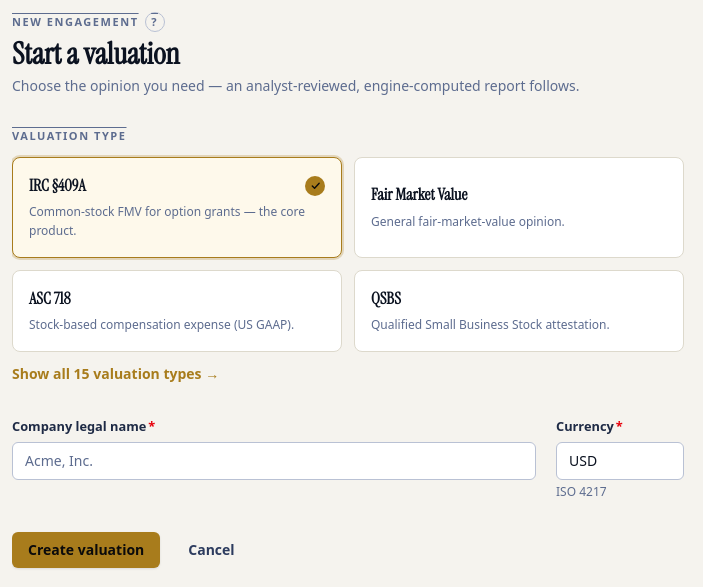
NewValuationPage › names an emptied currency box as required rather than malformed
Type "Acme" into the field labelled "Company legal name" at coordinates (274, 461), box [12,442,536,480]
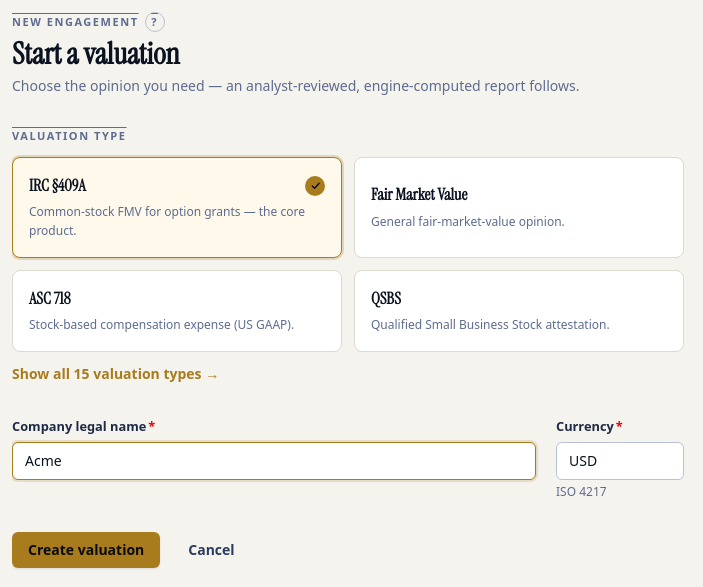
Clear the field labelled "Currency * ISO 4217" at coordinates (620, 461), box [556,442,684,480]
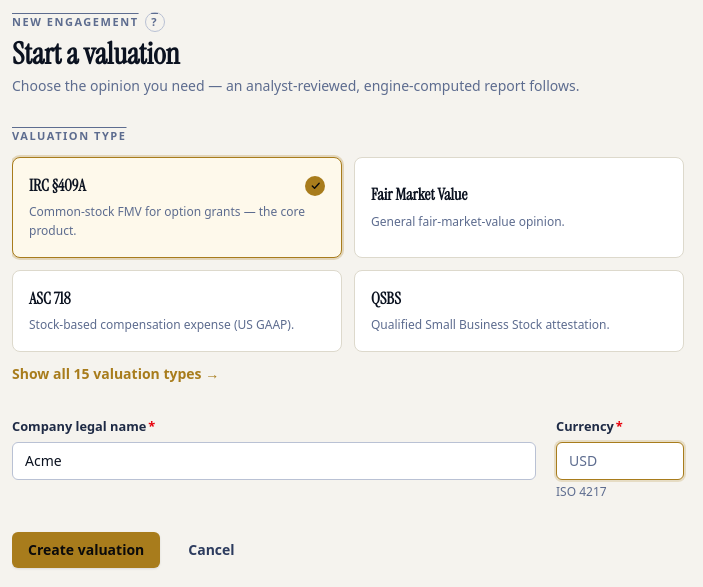
Press Tab
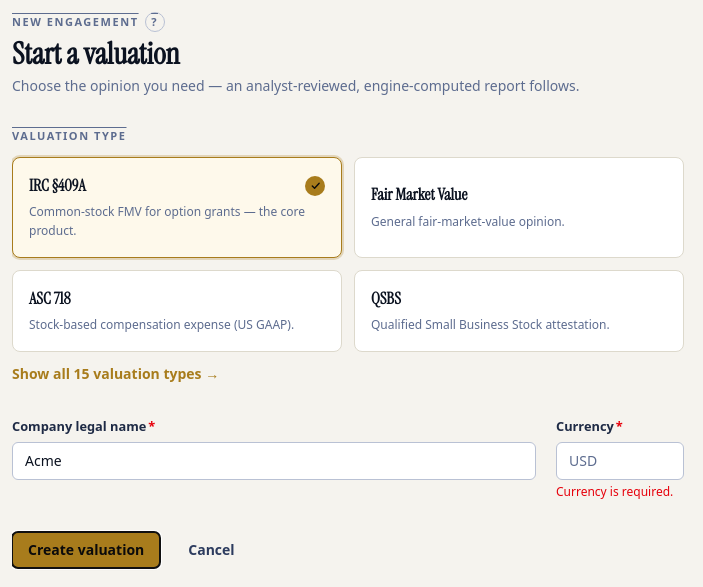
Expected: the text "Currency is required." is shown, [556,484,684,500]
